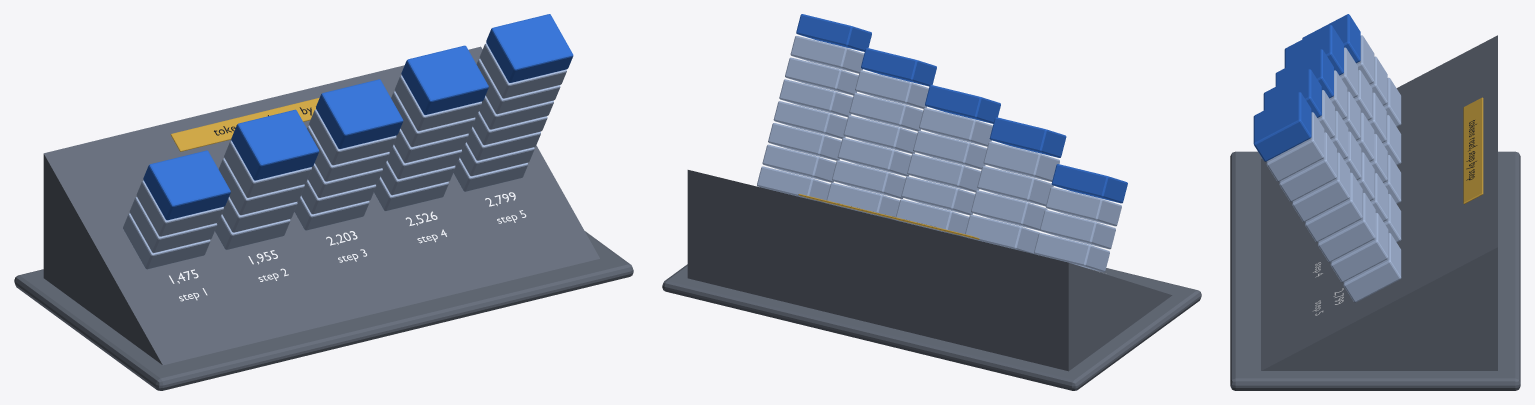
Rendered from context.glb.
3 renders of one model, left to right at view 1: azimuth 30°, elevation 25°; view 2: azimuth 150°, elevation 25°; view 3: azimuth 270°, elevation 25°, orthographic. The views are drawn at different scales.
Parts seen in each view (by area): view 1: slope, stand, f0.004, f0.003, f0.002, f0.001, f0, f4, f3, f5, f6, f7 (+2 smaller); view 2: slope, stand, f0.004, f0.003, f0.002, f0.001, f0, f4, f3, f5, f6, f7 (+1 smaller); view 3: slope, stand, f0.004, f0.003, f7, f0.002, f0.001, lbl_p, f0, f4, f6, f5 (+2 smaller).
Part boxes in pixels (x1,y1,x2,y2): slope: [43, 46, 599, 365]; stand: [14, 231, 633, 390]; f0.004: [453, 43, 566, 191]; f0.003: [374, 75, 481, 211]; f0.002: [294, 109, 396, 230]; f0.001: [215, 141, 311, 249]; f0: [123, 180, 223, 269]; f4: [231, 109, 319, 180]; f3: [143, 150, 230, 220]; f5: [316, 79, 403, 148]; f6: [401, 45, 488, 114]; f7: [486, 14, 573, 82]; slope: [687, 170, 1172, 371]; stand: [662, 264, 1201, 390]; f0.004: [757, 36, 864, 203]; f0.003: [826, 70, 928, 220]; f0.002: [895, 107, 992, 237]; f0.001: [965, 141, 1059, 254]; f0: [1034, 187, 1121, 272]; f4: [989, 117, 1066, 157]; f3: [1051, 164, 1127, 203]; f5: [925, 85, 1000, 123]; f6: [861, 48, 936, 86]; f7: [796, 14, 871, 51]; slope: [1261, 35, 1497, 370]; stand: [1230, 151, 1520, 390]; f0.004: [1266, 112, 1401, 302]; f0.003: [1317, 90, 1401, 242]; f7: [1253, 92, 1311, 161]; f0.002: [1329, 70, 1401, 203]; f0.001: [1339, 47, 1401, 165]; lbl_p: [1463, 97, 1483, 204]; f0: [1356, 35, 1401, 126]; f4: [1284, 25, 1343, 75]; f6: [1263, 69, 1321, 117]; f5: [1275, 49, 1333, 98].
Size of the model in its own units: 1.2 by 0.602 by 0.6372.
